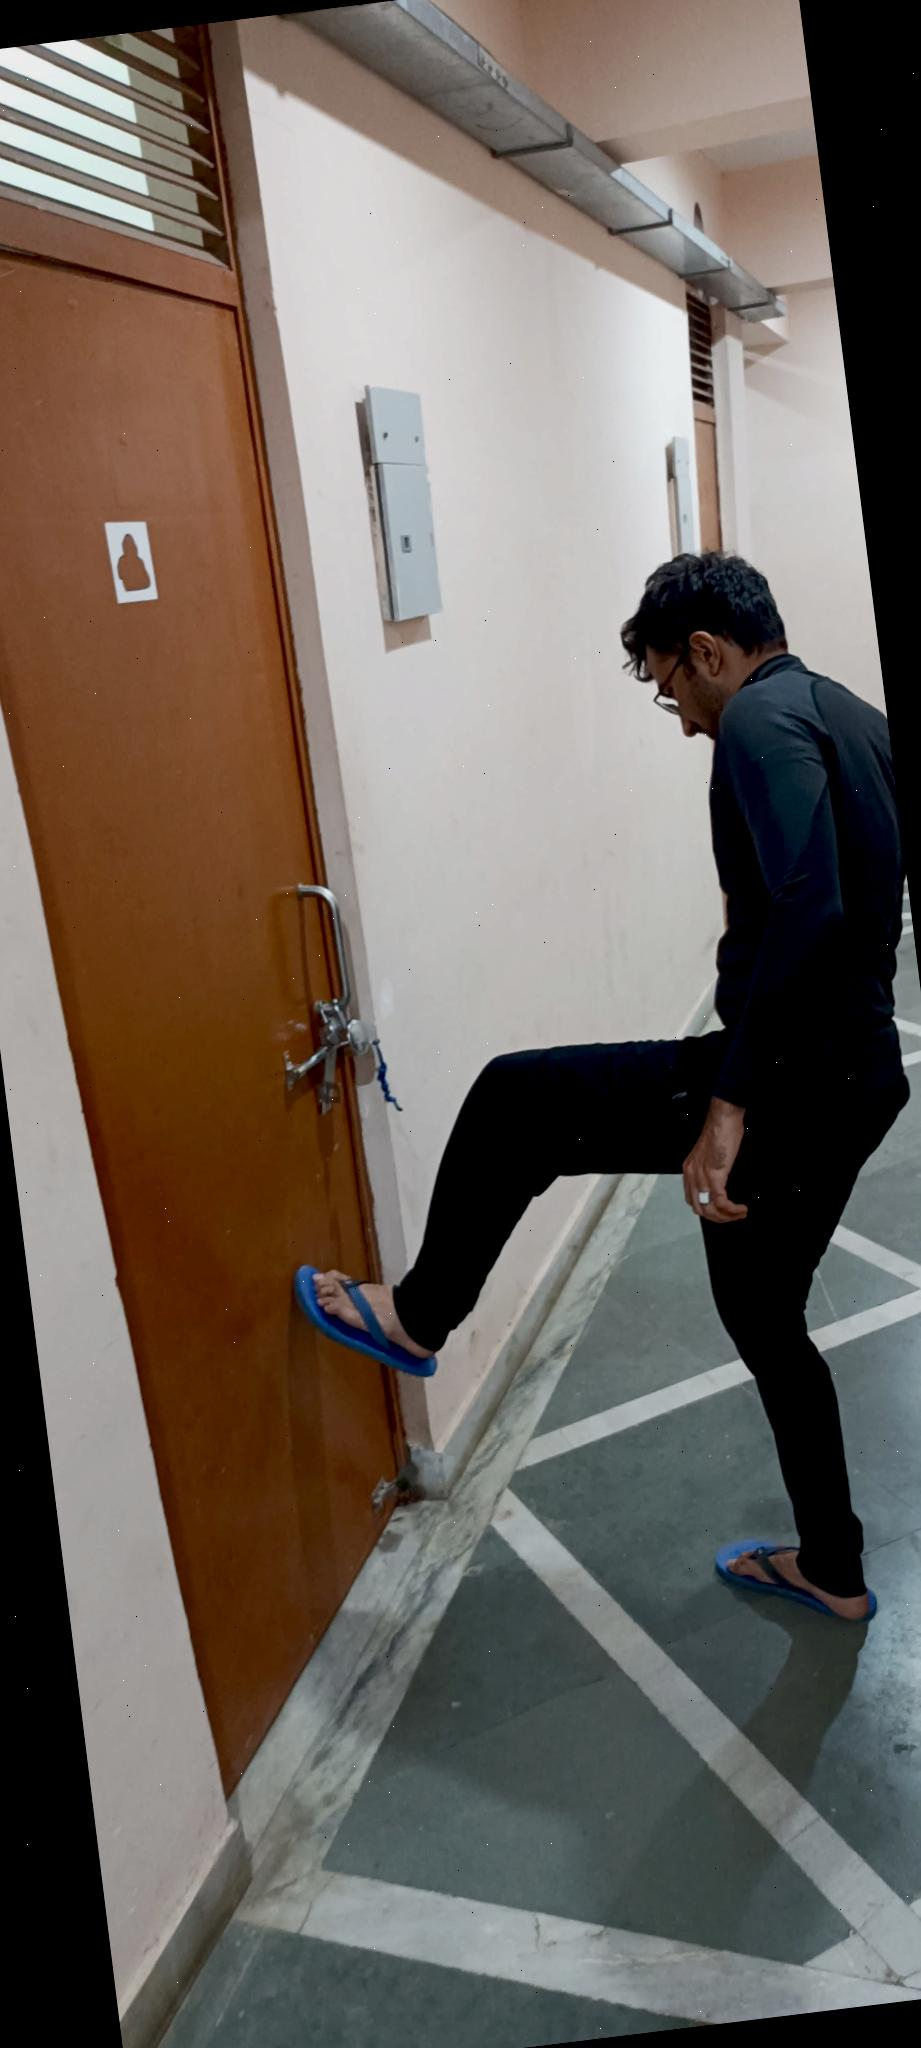suspicion: (135, 519, 921, 1765)
